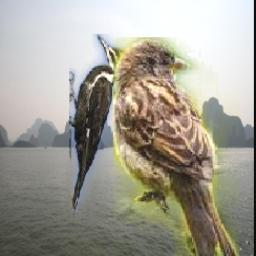Sparrow: (113, 37, 239, 256)
Woodpecker: (68, 34, 138, 220)
